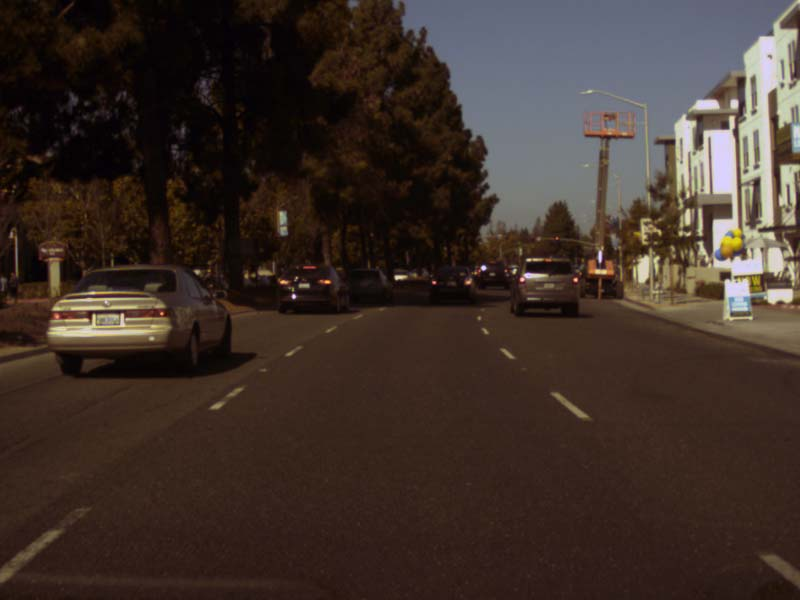Red: (555, 235, 559, 240)
